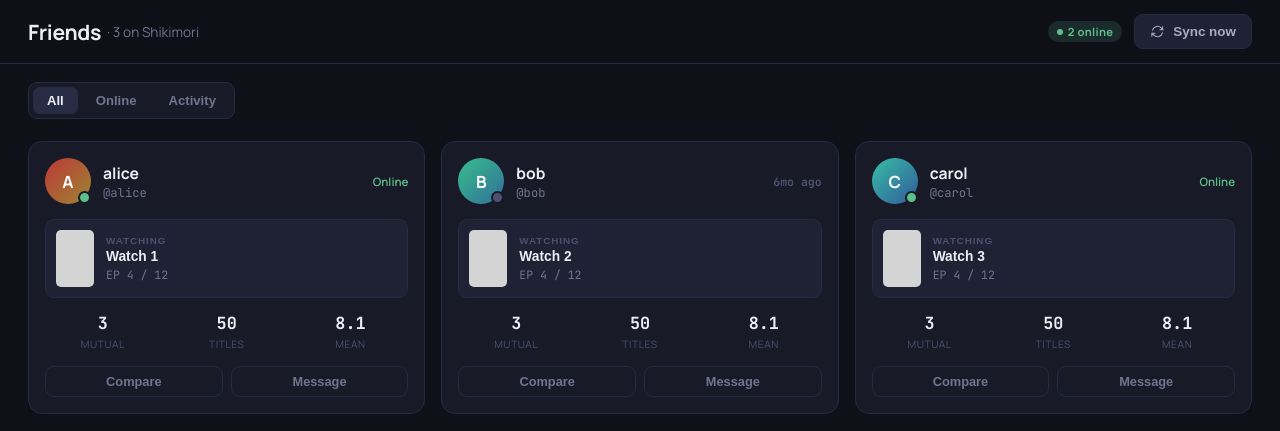
FriendsView — Activity offline (#568) › offline: renders the snapshot with a "Last updated" stamp
Click the button "Activity" at (192, 100), box [155, 87, 230, 114]
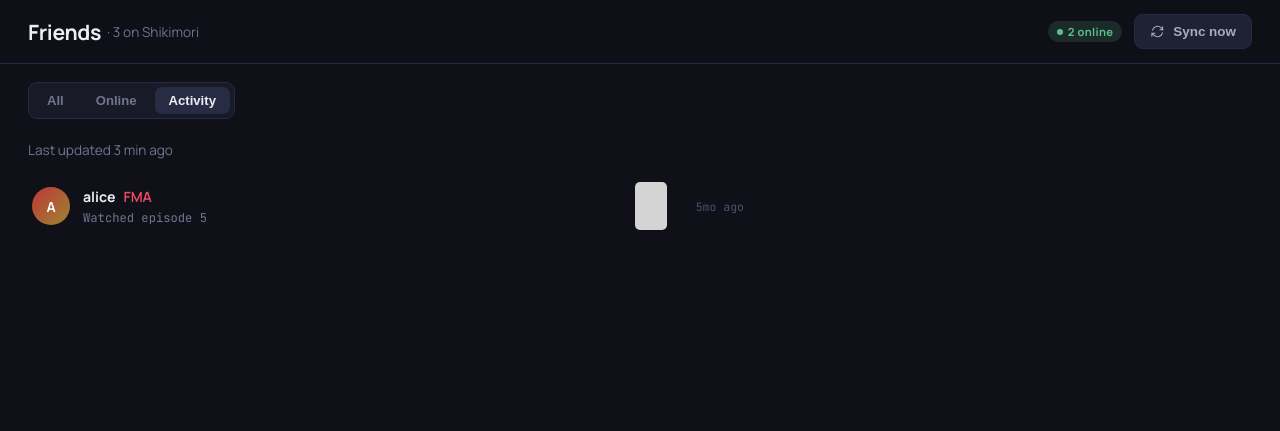
Expected: the number of elements with class "feed-row" is 1, [28, 169, 748, 243]
Expected: the text with test id "activity-stamp" reads "Last updated 3 min ago", [28, 141, 173, 159]
